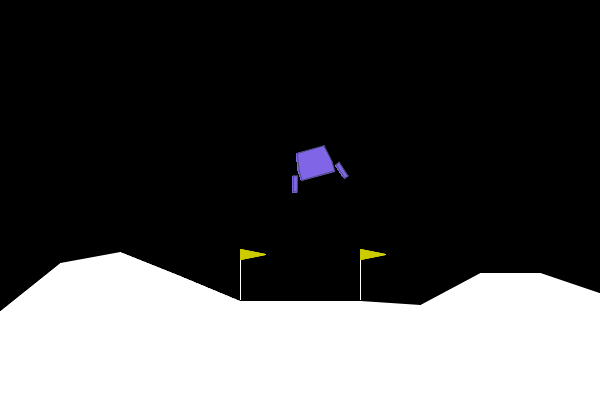lander: (281, 140, 350, 195)
